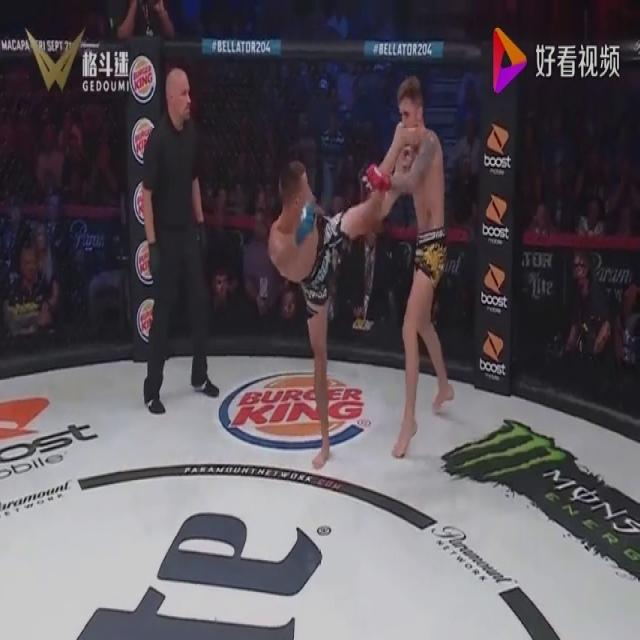fight: (265, 72, 455, 472)
non-fight: (140, 62, 221, 414)
